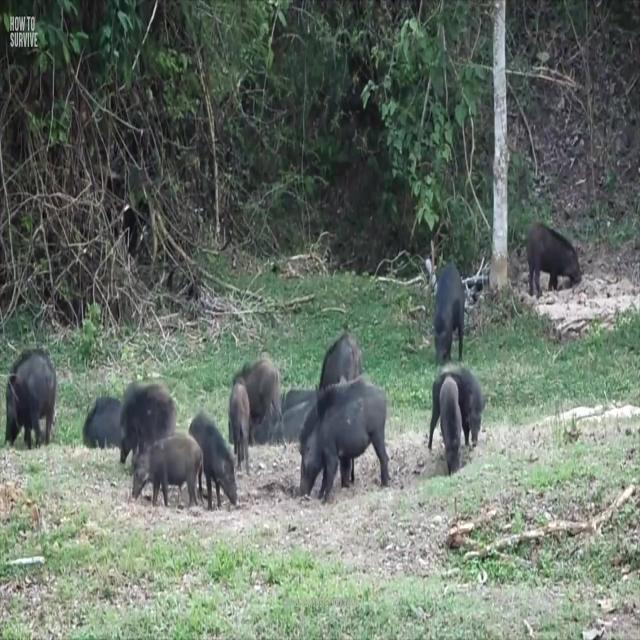pig: (292, 356, 394, 524), (0, 305, 80, 453), (130, 414, 198, 524), (510, 217, 585, 307), (230, 322, 282, 423), (112, 359, 170, 446), (188, 384, 228, 510), (76, 368, 122, 473), (424, 224, 459, 345), (421, 361, 483, 427), (223, 358, 254, 468), (432, 359, 458, 469), (318, 326, 350, 380)
